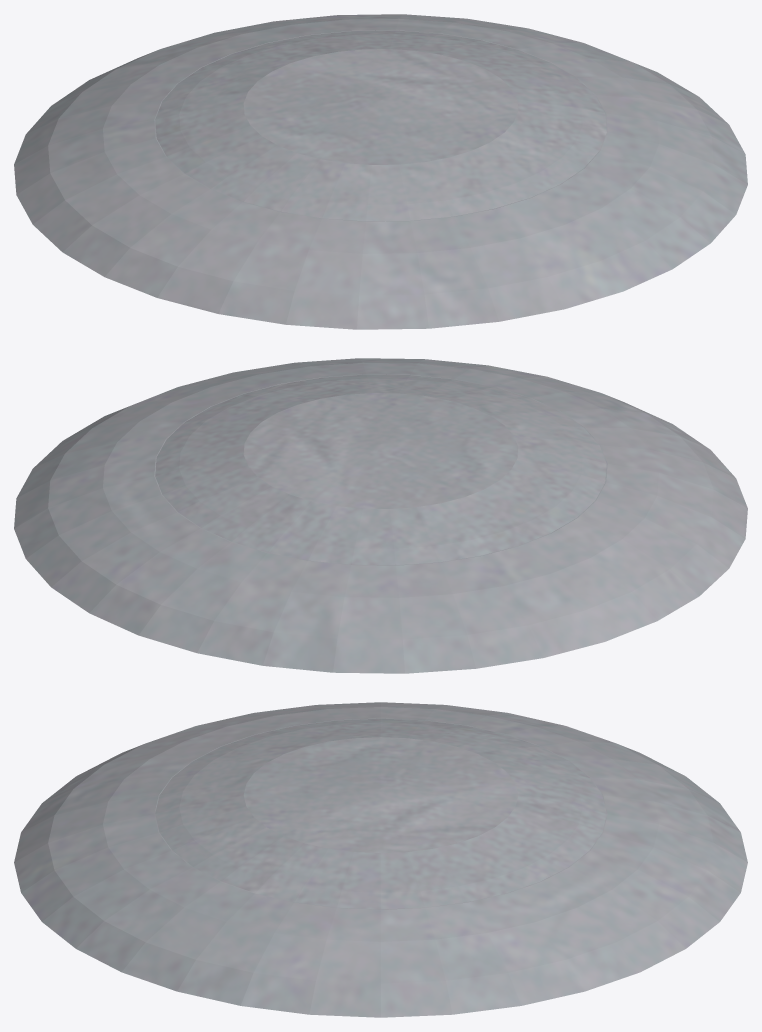
File: SJ10_parachute.fbx
3 renders of one model, top to bottom at view 1: azimuth 30°, elevation 25°; view 2: azimuth 150°, elevation 25°; view 3: azimuth 270°, elevation 25°, orthographic.
Parts seen in each view (by area): view 1: base, cap.001; view 2: base, cap.001; view 3: base, cap.001.
Part boxes in pixels (x1,y1,x2,y2): base: [14, 14, 747, 329]; cap.001: [155, 30, 606, 221]; base: [14, 358, 747, 673]; cap.001: [155, 374, 606, 565]; base: [14, 702, 747, 1017]; cap.001: [155, 718, 606, 909].
Size of the model in its own units: 0.75 by 0.0837 by 0.75.
Materials: 1 (1 with a texture image).
